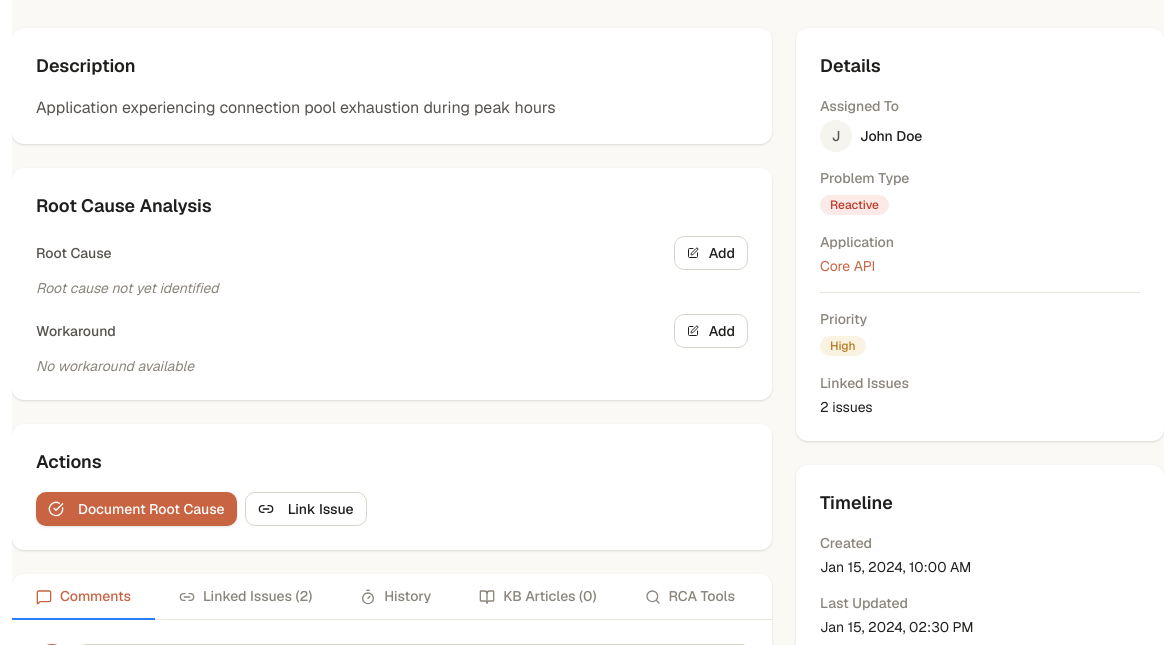
Test case: ProblemDetailPage › Tabs Navigation › switches to history tab when clicked
The width and height of the screenshot is (1176, 645).
Click the button "History".
click(396, 597)  # box [336,574,455,620]
(page scrolled)
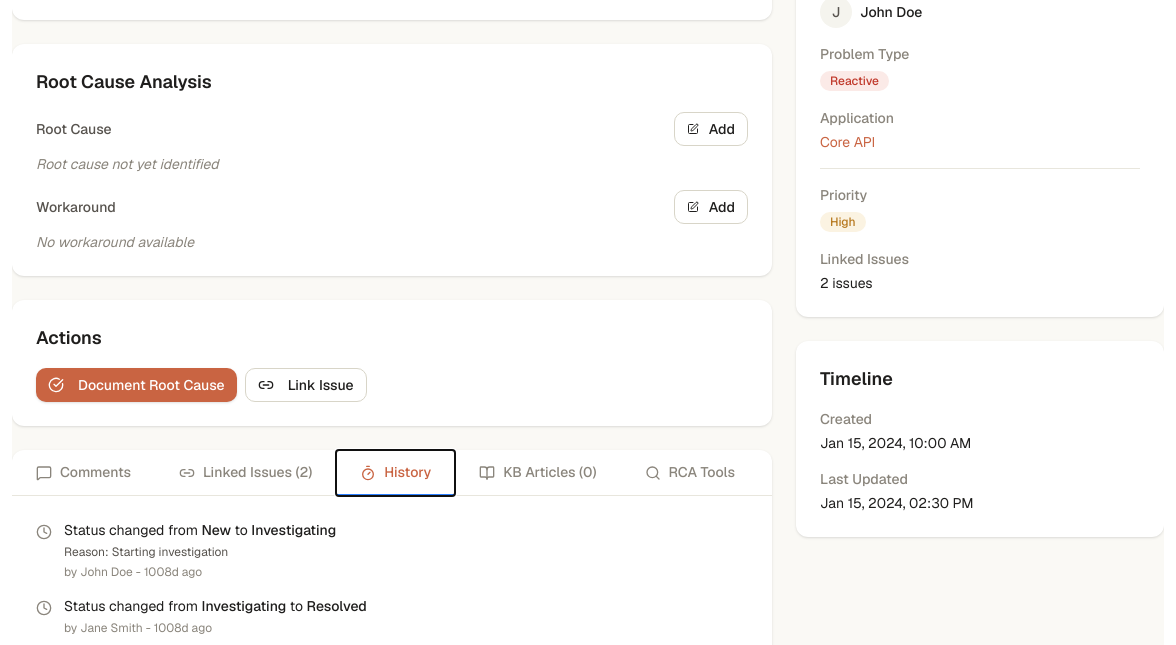
Check: the text "Status changed from New to Investigating" is shown, box [64,521,336,539]
